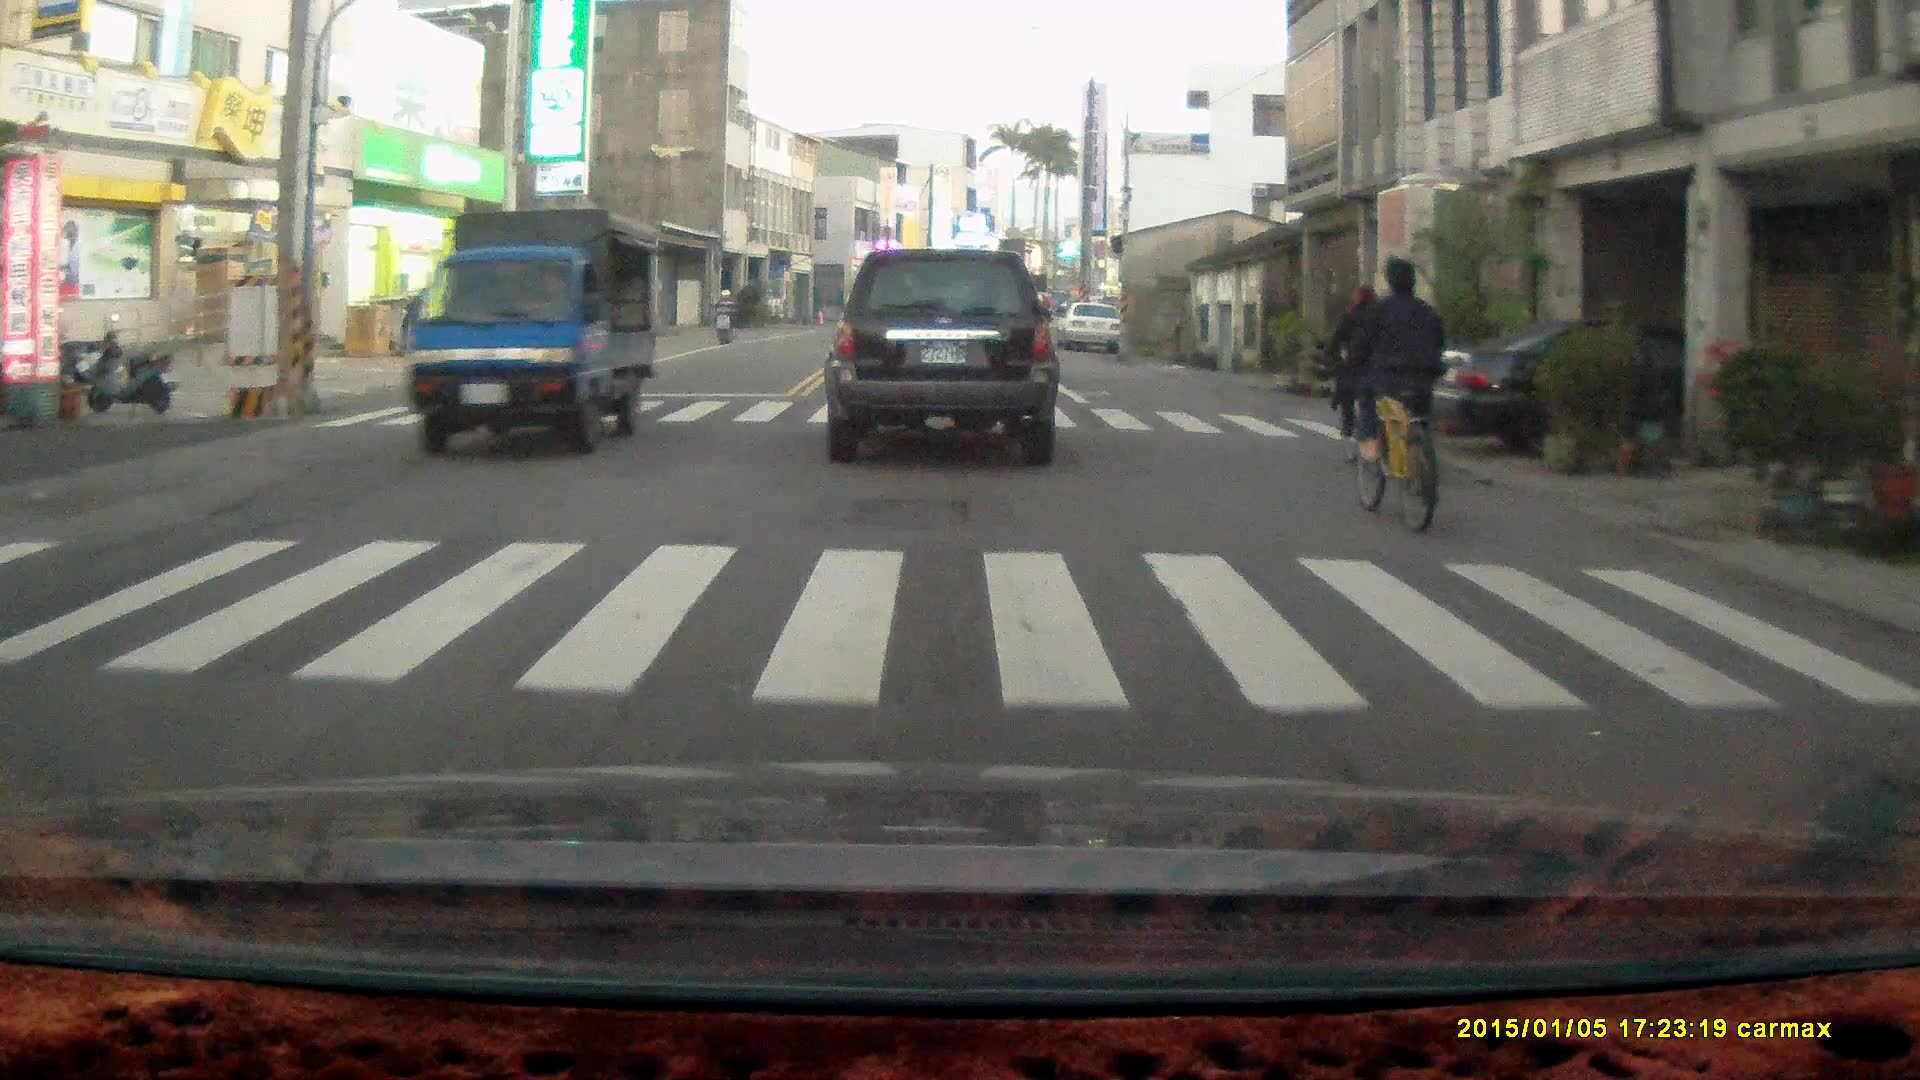rider: (1341, 255, 1446, 536), (1324, 278, 1395, 471), (711, 286, 736, 346)
vehicle: (398, 205, 672, 459), (1427, 317, 1845, 467), (823, 247, 1062, 468), (1058, 304, 1127, 356)
